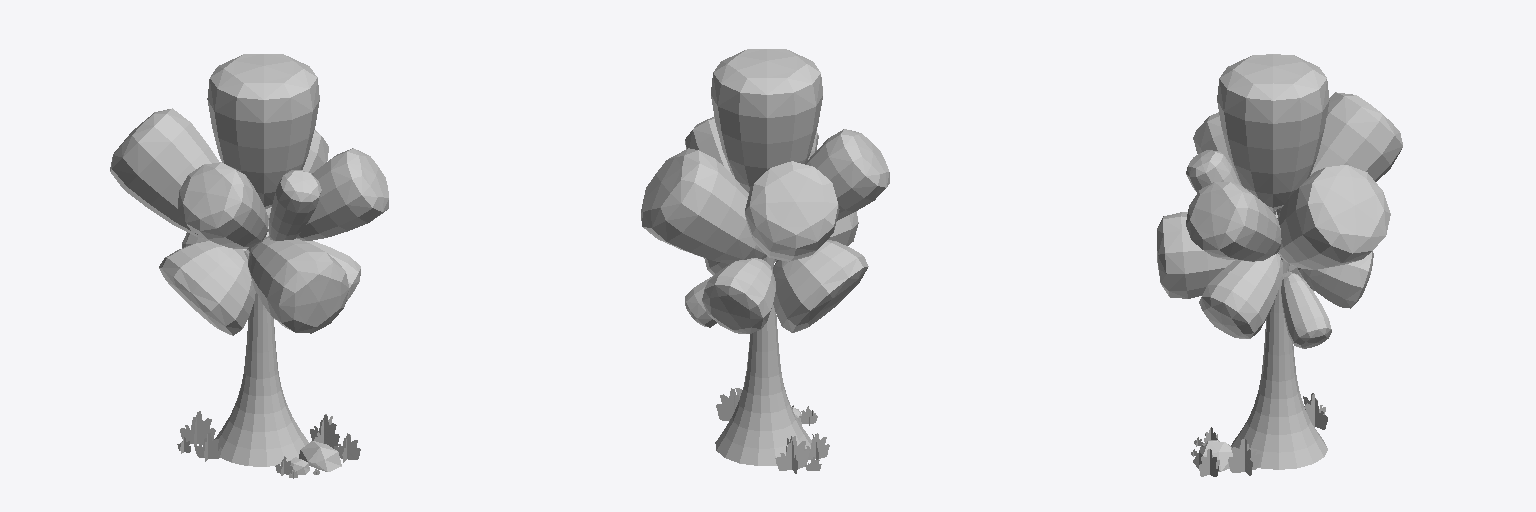
File: tree.obj
3 views of the same model, side by side, from view 1: azimuth 30°, elevation 25°; view 2: azimuth 150°, elevation 25°; view 3: azimuth 270°, elevation 25° (orthographic).
Visible parts, largest first — view 1: tree0; view 2: tree0; view 3: tree0.
Part boxes in pixels (left/top/right/bottom): tree0: left=110, top=54, right=388, bottom=478; tree0: left=641, top=49, right=889, bottom=473; tree0: left=1157, top=54, right=1402, bottom=476.
Bounding box in the file's own units: 29.26 × 50.96 × 29.76.